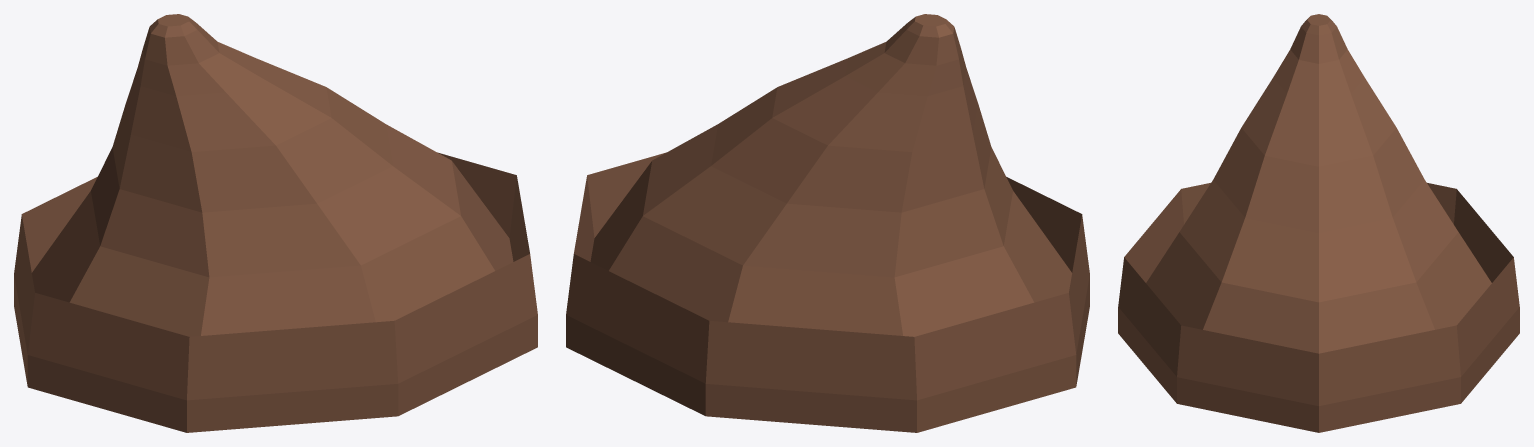
The model's file is Hat.fbx.
3 views of the same model, side by side, from view 1: azimuth 30°, elevation 25°; view 2: azimuth 150°, elevation 25°; view 3: azimuth 270°, elevation 25° (orthographic). The views are drawn at different scales.
Visible parts, largest first — view 1: Cylinder.013; view 2: Cylinder.013; view 3: Cylinder.013.
Part boxes in pixels (x1,y1,x2,y2): Cylinder.013: [14, 14, 537, 432]; Cylinder.013: [566, 14, 1089, 432]; Cylinder.013: [1118, 14, 1519, 432].
Bounding box in the file's own units: 235 × 150 × 201.
